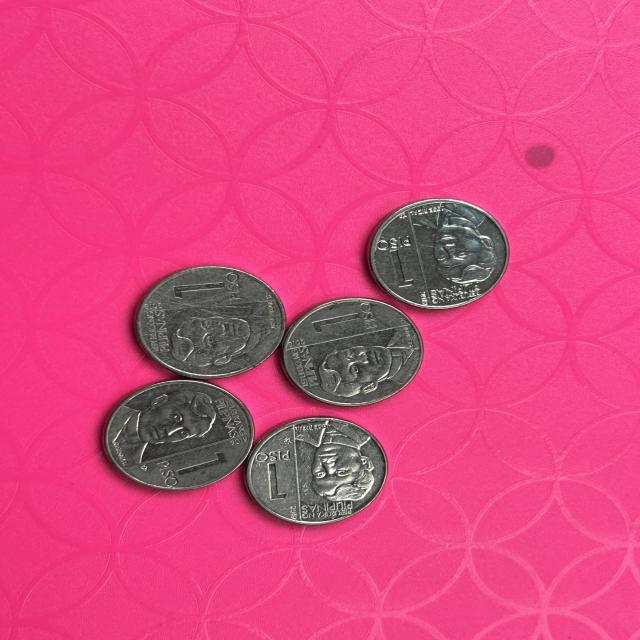1_New_Front: (249, 441, 303, 510), (148, 450, 233, 492), (163, 273, 250, 307), (305, 299, 384, 334), (374, 232, 418, 290)
